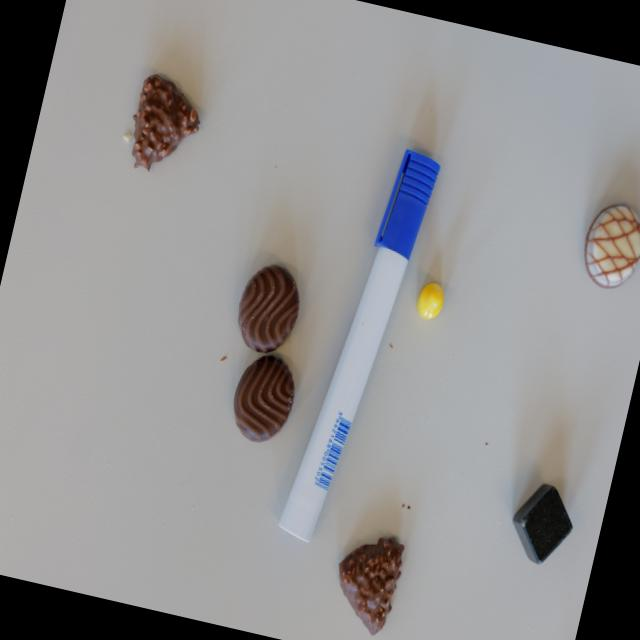Creme_brulee: (577, 200, 640, 293)
Noir_authentique: (228, 258, 308, 360), (225, 352, 302, 450)
Triangolo: (325, 526, 410, 638), (122, 70, 208, 180)
